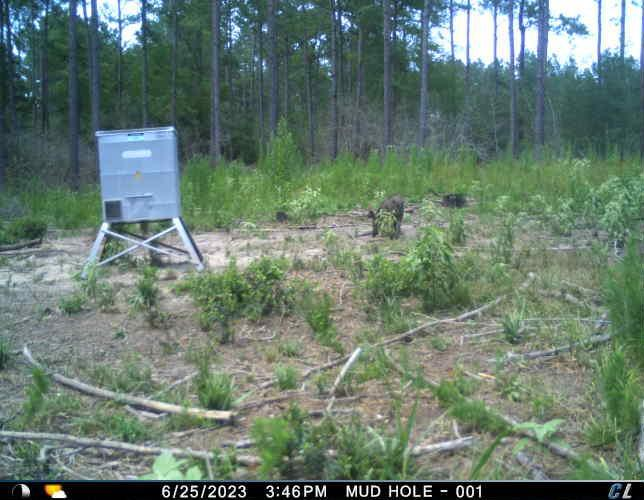Hog: (366, 190, 410, 240)
